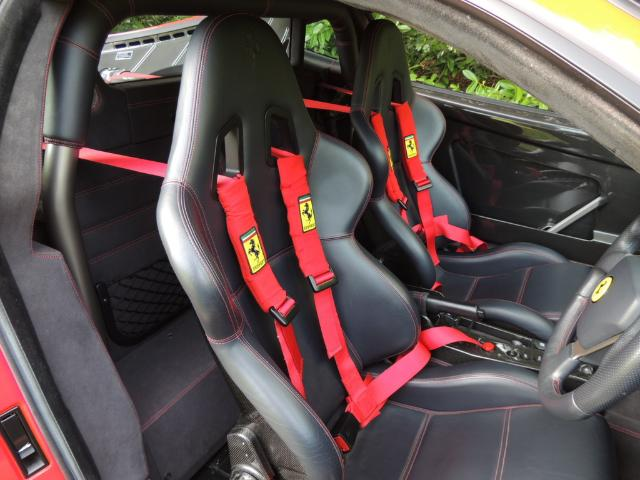Seatbelt: (119, 71, 491, 294), (42, 142, 308, 398)
